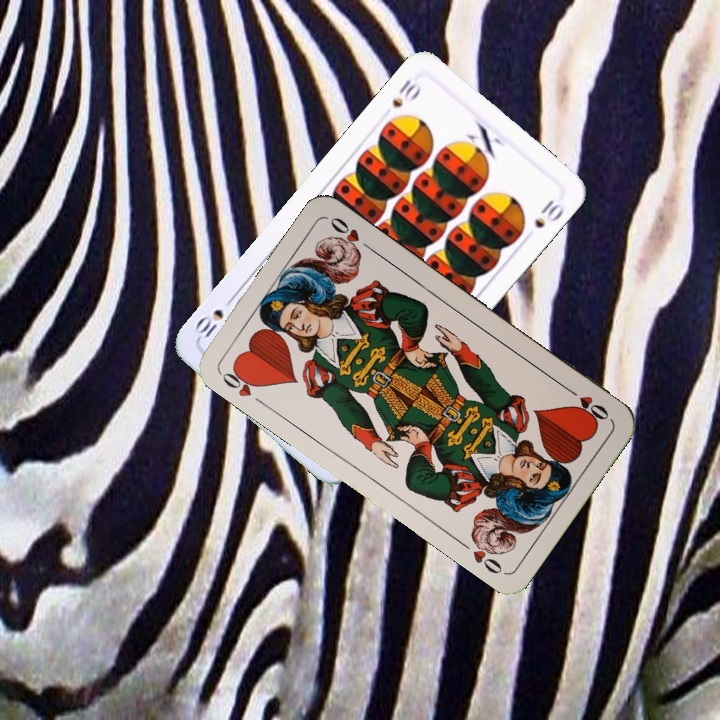HO: (561, 383, 612, 424), (216, 362, 265, 400)
S10: (388, 74, 424, 110)
